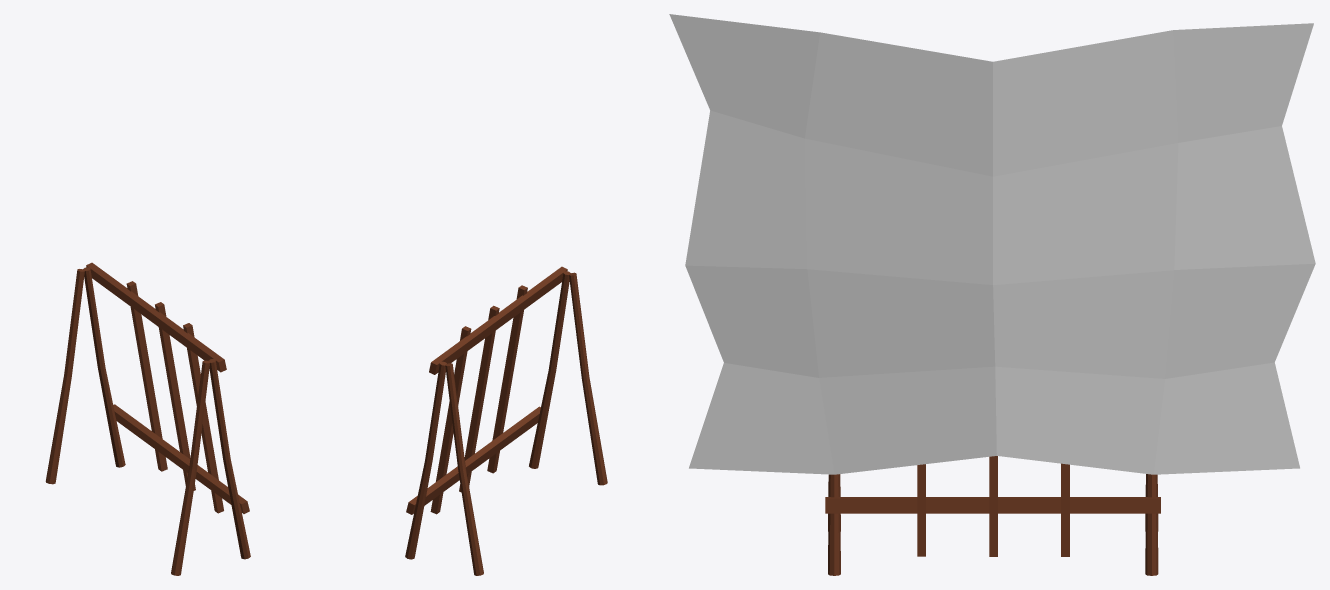
Rendered from tannning_rack.glb.
3 renders of one model, left to right at view 1: azimuth 30°, elevation 25°; view 2: azimuth 150°, elevation 25°; view 3: azimuth 270°, elevation 25°, orthographic. The views are drawn at different scales.
Visible parts, largest first — view 1: tanning_rack; view 2: tanning_rack; view 3: leather, tanning_rack.
Part boxes in pixels (x1,y1,x2,y2): tanning_rack: [45, 262, 250, 575]; tanning_rack: [405, 266, 607, 575]; leather: [669, 14, 1315, 474]; tanning_rack: [825, 456, 1160, 575].
Bounding box in the file's own units: 0.5537 × 2.13 × 2.34.
